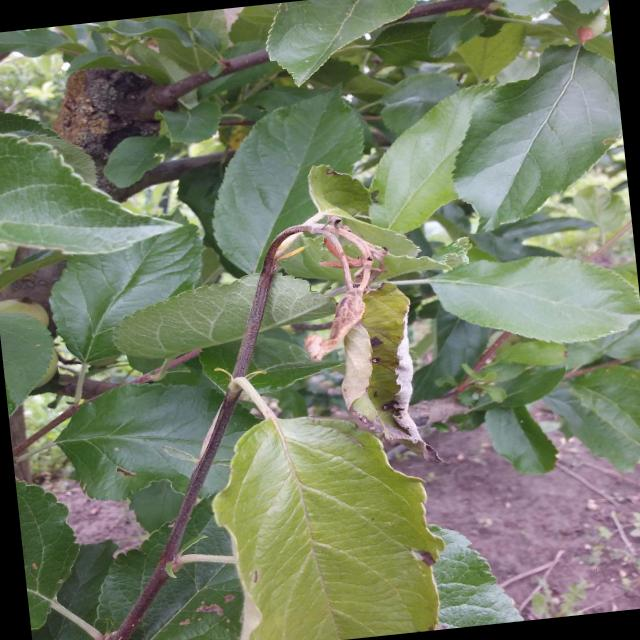-FireBlight-: (280, 203, 446, 458)
